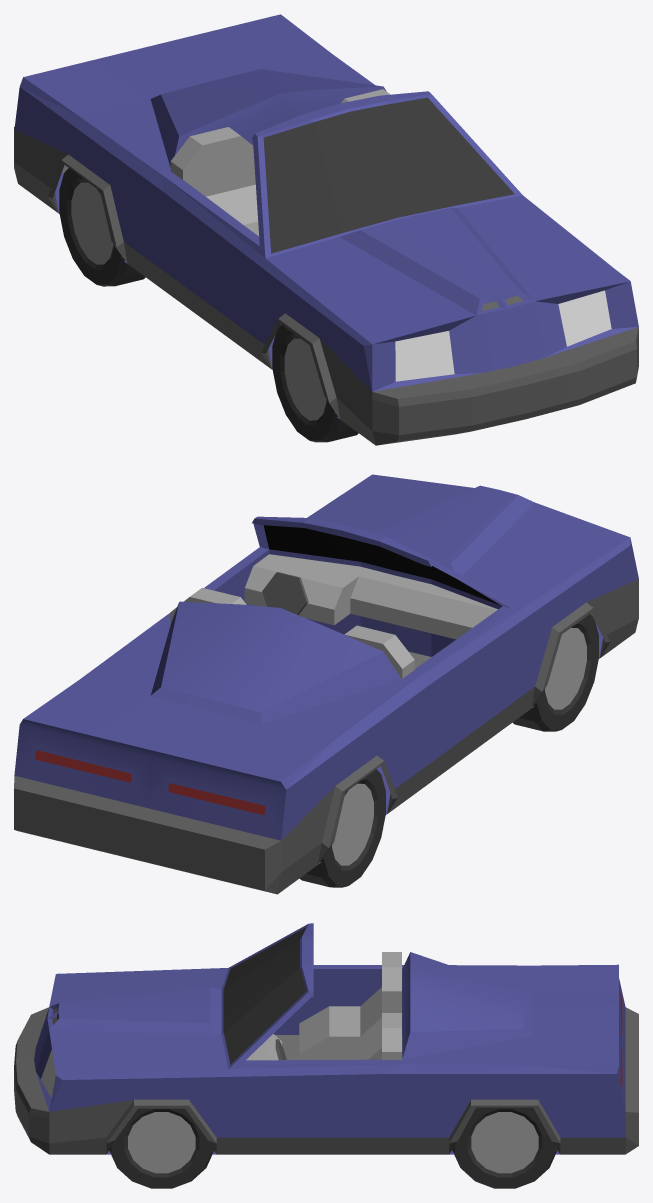
File: Car_V4.fbx
The picture shows the model from 3 angles, top to bottom: view 1: azimuth 30°, elevation 25°; view 2: azimuth 150°, elevation 25°; view 3: azimuth 270°, elevation 25°; orthographic projection. The views are drawn at different scales.
Visible parts, largest first — view 1: Car_V4; view 2: Car_V4; view 3: Car_V4.
Boxes of the visible parts, bbox=[...] form: Car_V4: bbox=[14, 14, 638, 445]; Car_V4: bbox=[14, 474, 638, 894]; Car_V4: bbox=[14, 923, 638, 1188].
Size of the model in its own units: 3.31 by 2.64 by 7.92.
